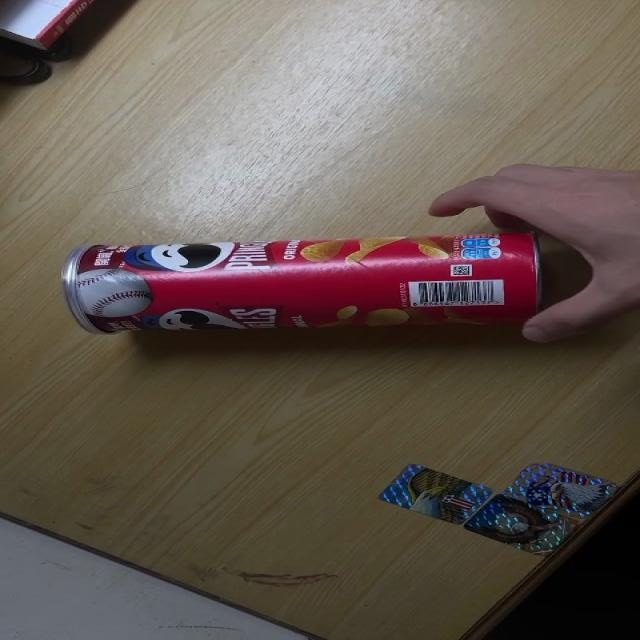Pringles: (62, 232, 544, 336)
